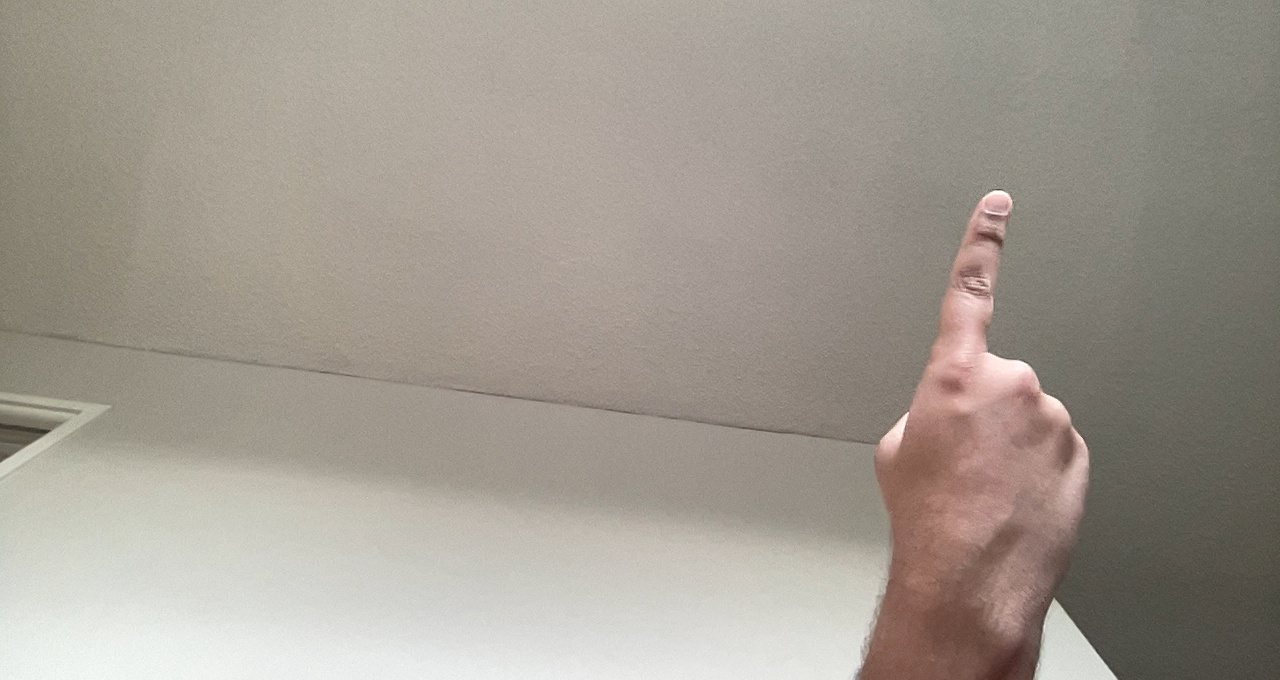fingerup: (841, 174, 1097, 633)
